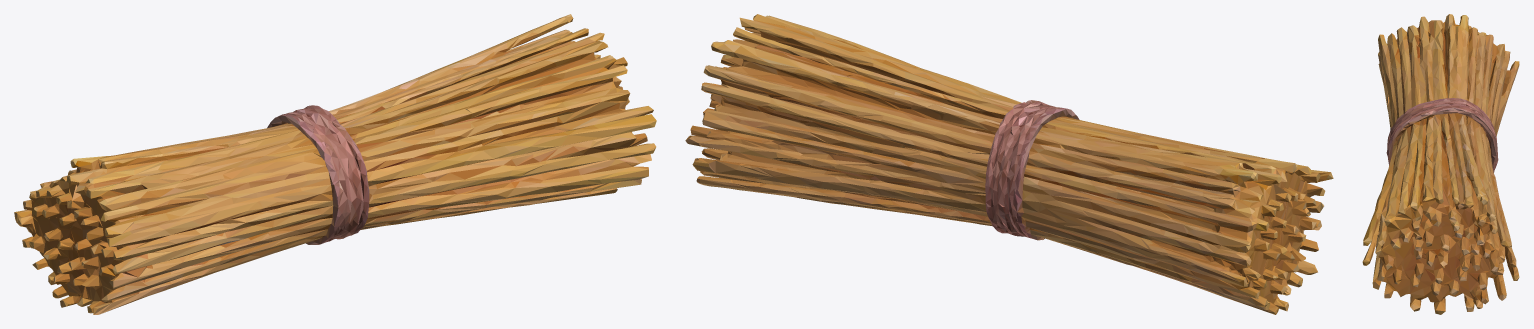
File: pasta.glb
The picture shows the model from 3 angles, left to right: view 1: azimuth 30°, elevation 25°; view 2: azimuth 150°, elevation 25°; view 3: azimuth 270°, elevation 25°; orthographic projection. The views are drawn at different scales.
Visible parts, largest first — view 1: geometry_0; view 2: geometry_0; view 3: geometry_0.
Part boxes in pixels (box(x1,y1,x2,y2)): geometry_0: box(14, 14, 656, 314); geometry_0: box(685, 14, 1333, 314); geometry_0: box(1362, 14, 1519, 314).
Bounding box in the file's own units: 0.26 × 0.0673 × 0.0818.
Materials: 1 (1 with a texture image).
